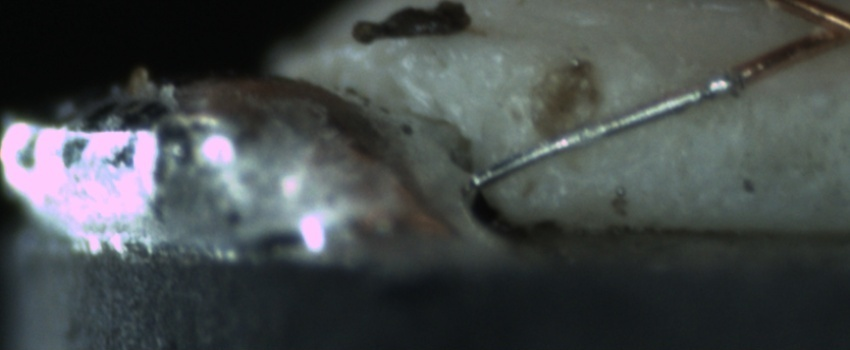CL: (789, 5, 850, 55)
TS: (472, 70, 746, 183)
TTCW: (451, 41, 795, 184)
